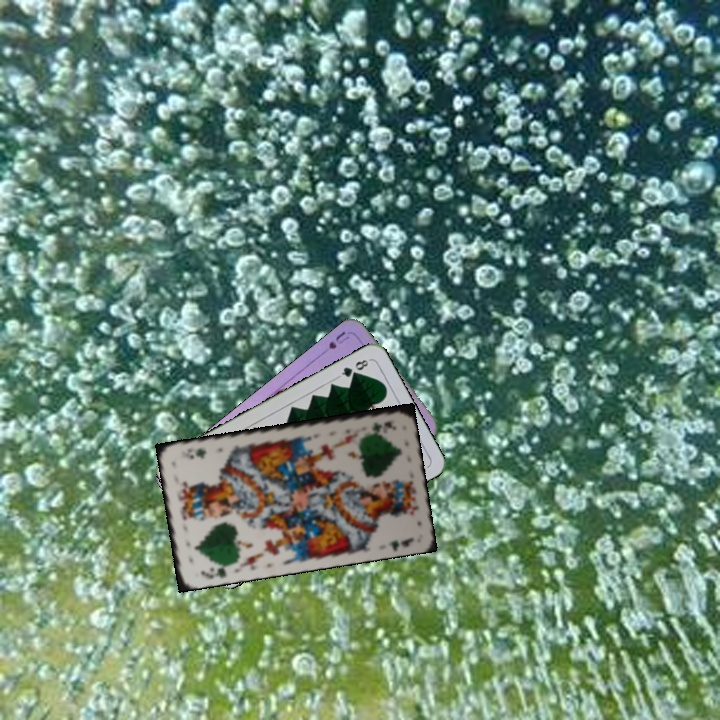G8: (335, 355, 372, 380)
GK: (197, 560, 231, 581), (367, 417, 399, 433)
SU: (317, 327, 351, 359)
